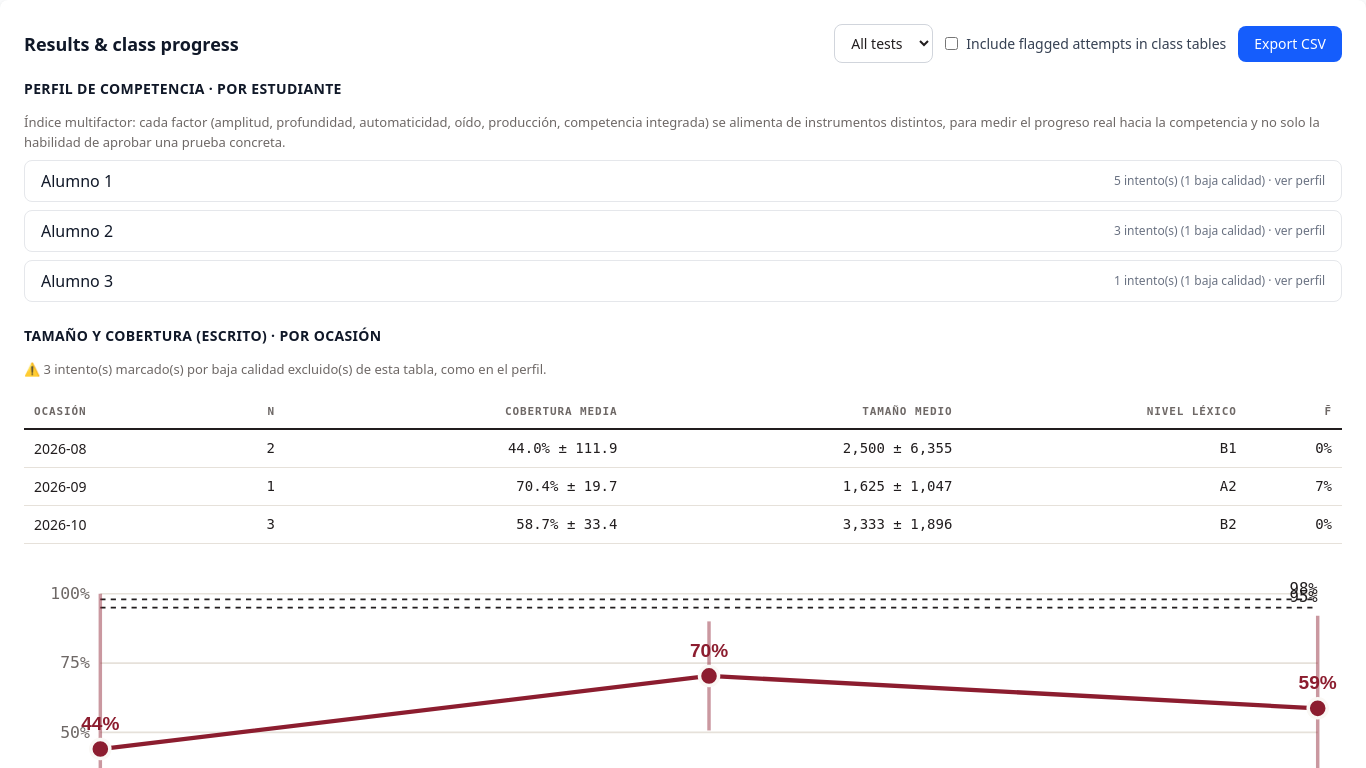
Test case: VocabResultsPanel · attempt quality in class statistics › the checkbox brings the flagged attempts back into the class tables
Step 1. Click the checkbox labelled "Include flagged attempts in class tables" → (952, 44), box [945,37,958,50]
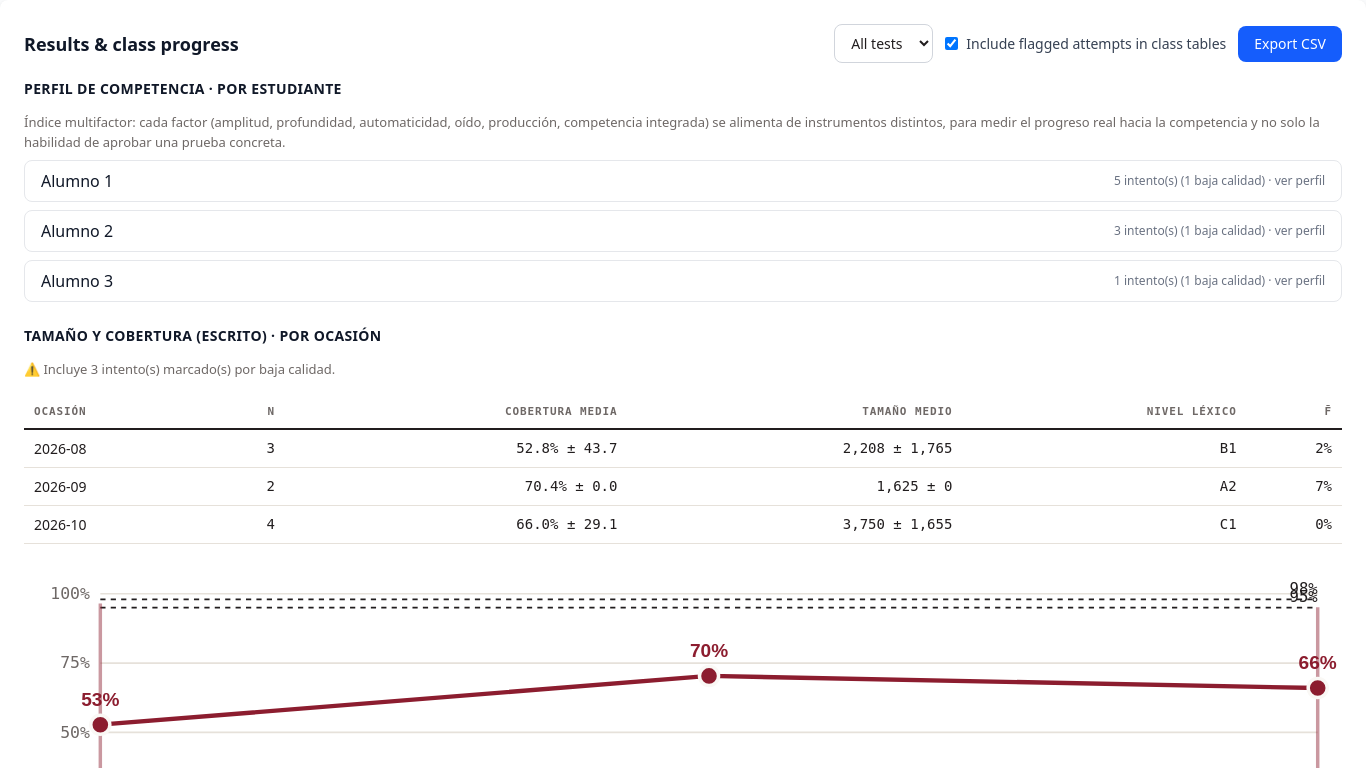
Expected: the text "⚠ Incluye 3 intento(s) marcado(s) por baja calidad." is shown, [24,360,335,378]
Expected: the text "excluido(s) de esta tabla" is gone
